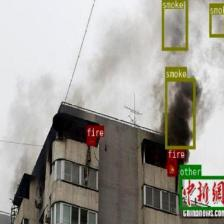fire: (168, 158, 176, 175), (86, 136, 95, 145)
smoke: (165, 78, 194, 148), (161, 0, 187, 49), (209, 3, 224, 37)
